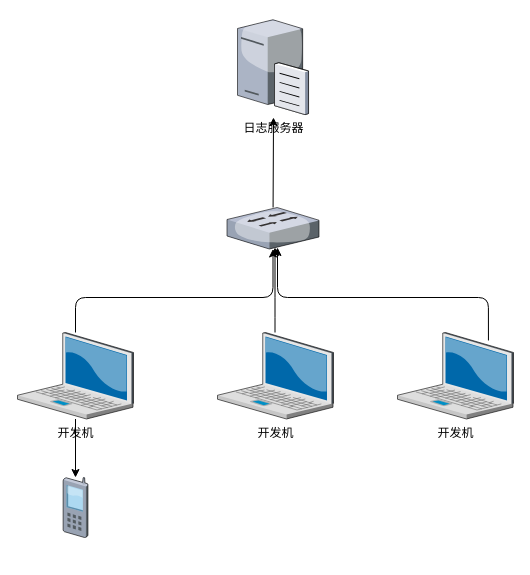
Image size: 530x575. Some labels were removed from this diagram. The box of each missing label's shape, as (x1, y1, x2, y2) in pixels:
交换机: (226, 207, 318, 248)
手机: (62, 477, 88, 537)
